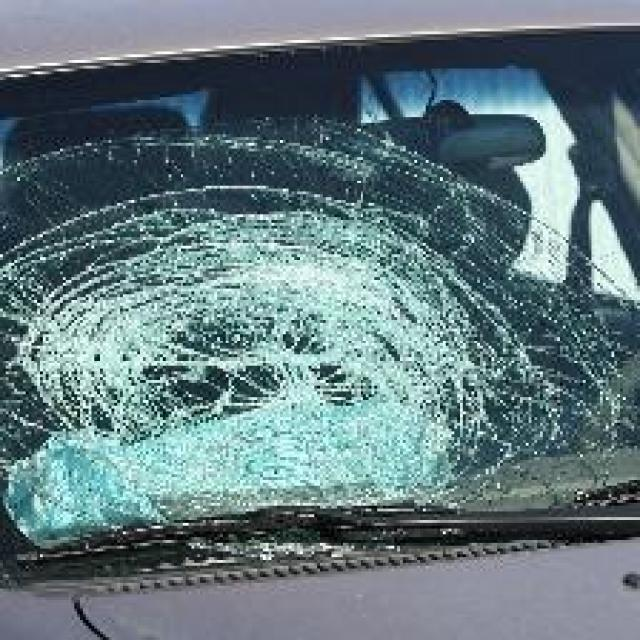damaged: (0, 119, 637, 532)
